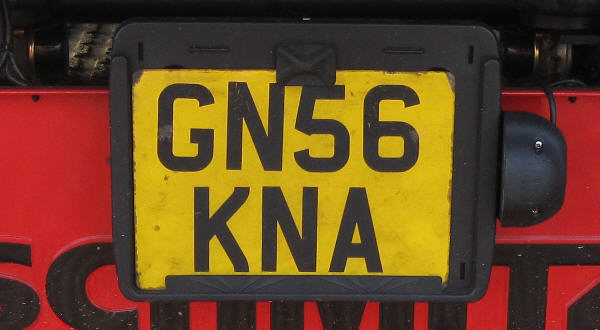license_plate: (130, 70, 451, 287)
